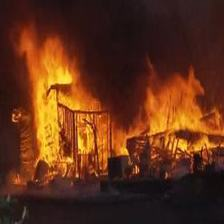fire: (8, 33, 220, 191)
